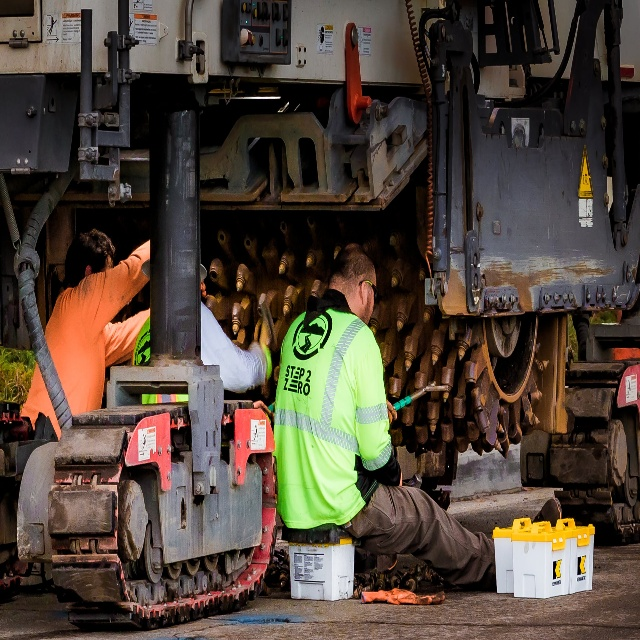Gafas: (359, 276, 380, 301)
Guantes: (357, 578, 446, 616)
